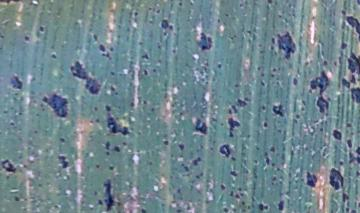tarspot: (69, 59, 102, 96), (341, 53, 360, 105), (103, 103, 132, 137), (308, 70, 330, 114), (40, 91, 71, 118), (269, 31, 296, 61), (339, 9, 360, 42), (101, 178, 116, 211), (326, 166, 345, 192), (195, 30, 214, 54), (226, 116, 241, 139), (1, 158, 18, 178), (193, 117, 210, 137), (8, 72, 24, 92), (346, 146, 360, 168), (304, 169, 318, 190), (57, 153, 69, 171), (270, 103, 283, 119), (218, 143, 231, 158), (235, 96, 251, 108), (160, 18, 174, 31), (340, 191, 350, 205), (331, 128, 342, 140), (258, 202, 269, 213), (277, 199, 285, 213), (191, 156, 202, 166), (180, 162, 190, 173), (99, 53, 112, 61), (339, 40, 349, 50), (97, 43, 107, 53), (1, 1, 24, 5), (228, 169, 238, 178), (112, 145, 123, 153), (345, 138, 353, 149), (230, 103, 238, 114), (195, 171, 204, 180), (37, 24, 45, 34), (261, 120, 269, 130), (108, 82, 116, 92), (49, 52, 57, 61), (91, 32, 99, 41), (141, 67, 149, 76), (219, 183, 227, 192), (290, 117, 299, 125), (139, 53, 149, 60), (104, 140, 111, 150), (57, 136, 66, 143), (353, 169, 360, 178), (258, 80, 267, 87), (136, 39, 145, 46), (108, 70, 117, 77), (232, 82, 241, 89), (345, 121, 352, 130), (300, 97, 307, 106), (322, 58, 329, 67), (264, 156, 270, 166), (23, 34, 30, 42), (178, 143, 185, 151), (162, 139, 170, 146), (132, 11, 140, 18), (176, 1, 184, 8), (171, 47, 178, 55), (338, 159, 345, 167), (298, 105, 306, 112), (337, 54, 342, 65), (93, 163, 102, 169), (228, 189, 234, 198), (14, 194, 20, 203), (292, 76, 297, 86), (108, 165, 115, 172), (216, 62, 223, 69), (269, 72, 276, 79), (139, 207, 147, 213), (260, 104, 266, 112), (268, 146, 276, 152), (155, 7, 161, 15), (222, 207, 230, 213), (234, 192, 240, 200), (109, 45, 114, 54), (8, 121, 15, 127), (226, 108, 232, 115), (253, 145, 259, 152), (318, 126, 324, 133), (149, 106, 155, 113), (294, 112, 300, 119), (97, 199, 103, 206), (95, 116, 100, 124), (2, 109, 10, 114), (258, 72, 266, 77), (354, 1, 360, 7), (113, 90, 119, 96), (17, 111, 23, 117), (216, 18, 222, 24), (271, 67, 277, 73), (223, 12, 230, 17), (241, 199, 246, 206), (239, 191, 244, 198), (332, 60, 337, 67), (265, 1, 273, 5), (105, 151, 110, 157), (175, 208, 181, 213), (93, 105, 98, 111), (88, 119, 94, 124), (33, 129, 38, 135), (151, 68, 157, 73), (256, 65, 260, 72), (344, 206, 349, 211), (349, 209, 355, 213), (236, 187, 242, 191)
